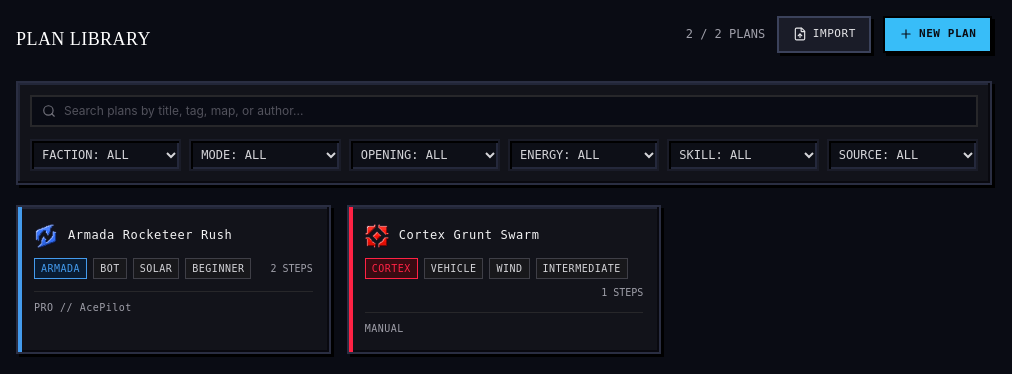
LibraryView & PlanDetailView › filters plans by faction
Select "CORTEX" in the dropdown with test id "filter-faction" at (106, 154), box [30,138,181,170]
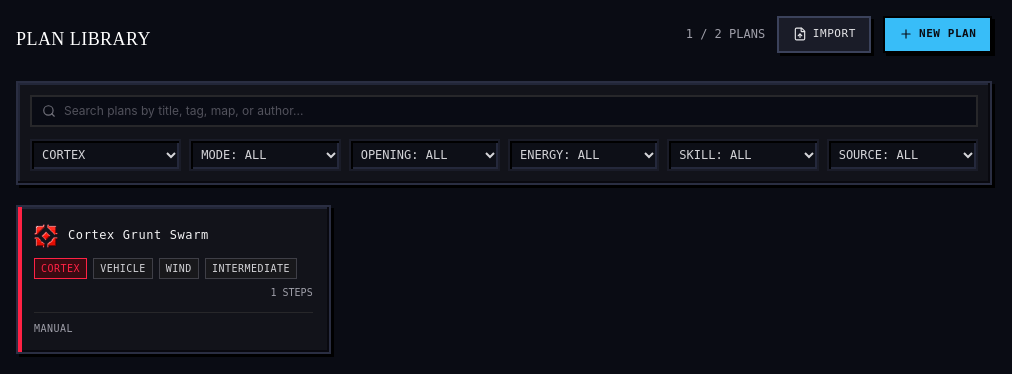
Expected: the text "Cortex Grunt Swarm" is shown, [68,227,209,243]
Expected: the text "Armada Rocketeer Rush" is gone
